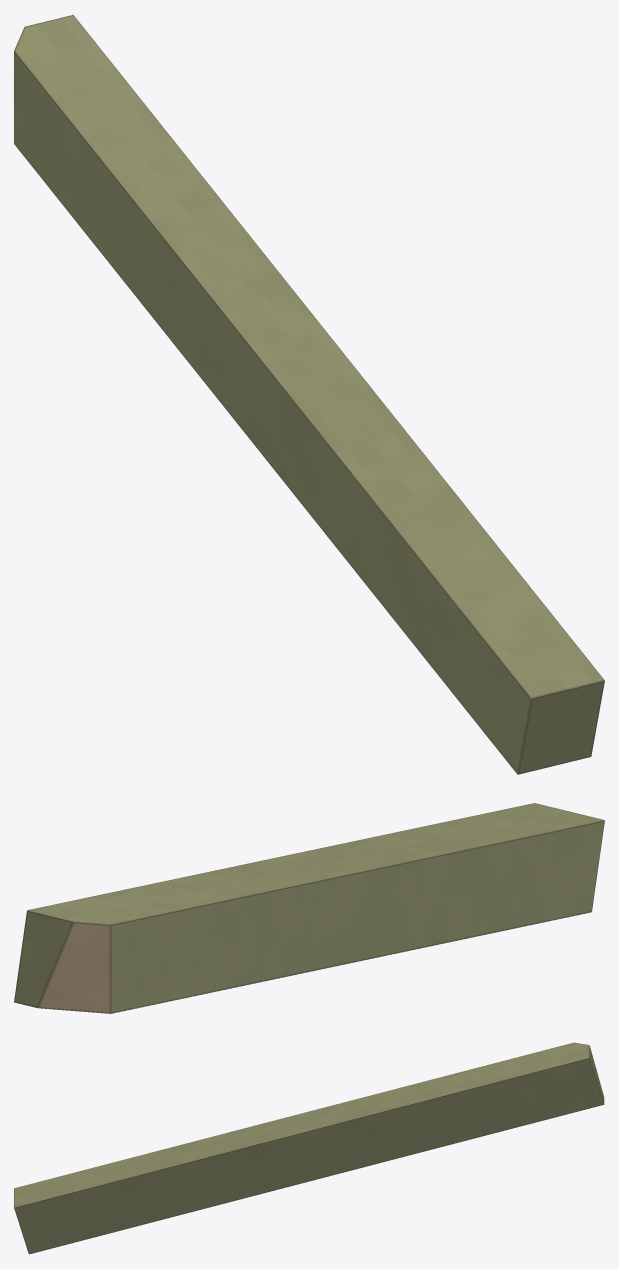
3 views of the same model, one above another, from view 1: azimuth 30°, elevation 25°; view 2: azimuth 150°, elevation 25°; view 3: azimuth 270°, elevation 25° (orthographic). The views are drawn at different scales.
Visible parts, largest first — view 1: part-b; view 2: part-b; view 3: part-b.
Part boxes in pixels (x1=…): part-b: x1=14, y1=15, x2=604, y2=774; part-b: x1=14, y1=803, x2=604, y2=1013; part-b: x1=14, y1=1042, x2=604, y2=1254.
Size of the model in its own units: 0.0909 by 0.4271 by 1.16.
